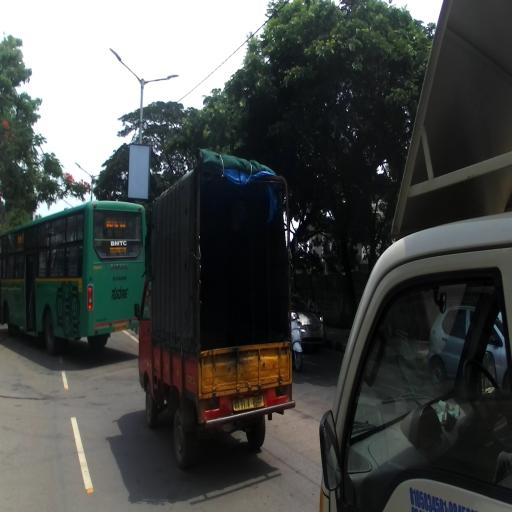street_light_0: (107, 47, 145, 91), (140, 74, 181, 92), (74, 162, 94, 180), (64, 201, 74, 209)
